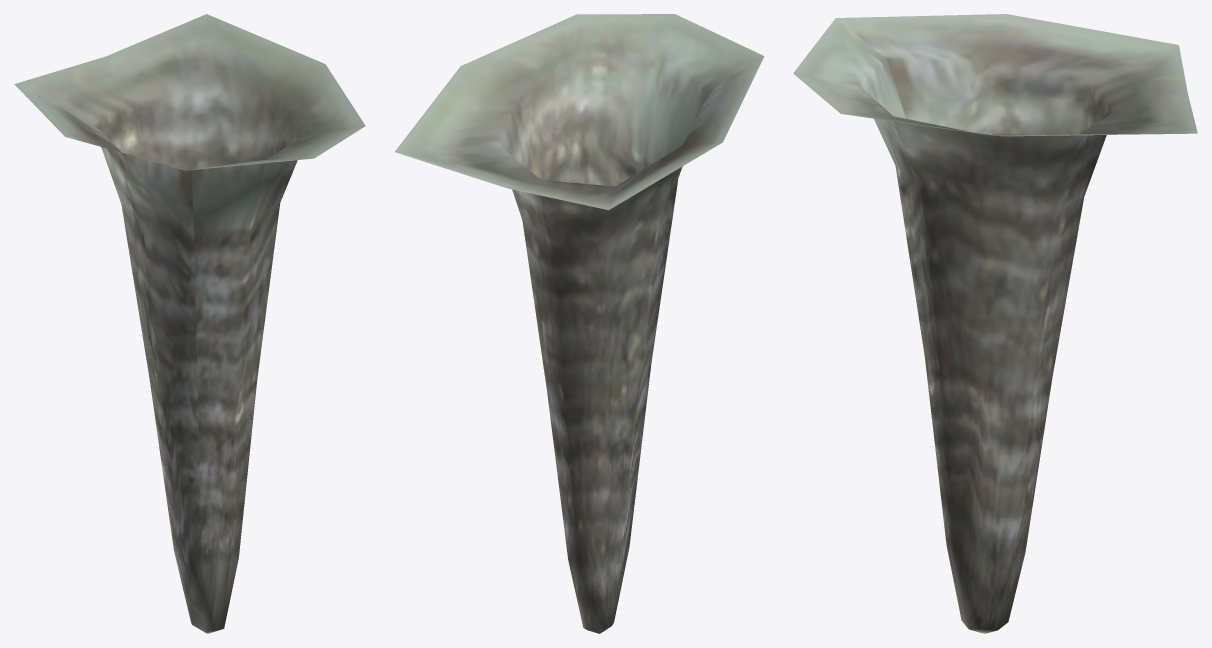
File: TROLLHOLE02_PS-SECRETSTALAG47.fbx
The picture shows the model from 3 angles, left to right: view 1: azimuth 30°, elevation 25°; view 2: azimuth 150°, elevation 25°; view 3: azimuth 270°, elevation 25°; orthographic projection. The views are drawn at different scales.
Visible parts, largest first — view 1: TROLLHOLE02_PS-SECRETSTALAG47; view 2: TROLLHOLE02_PS-SECRETSTALAG47; view 3: TROLLHOLE02_PS-SECRETSTALAG47.
Part boxes in pixels (x1,y1,x2,y2): TROLLHOLE02_PS-SECRETSTALAG47: (14,14,365,633); TROLLHOLE02_PS-SECRETSTALAG47: (395,14,764,633); TROLLHOLE02_PS-SECRETSTALAG47: (793,14,1197,633).
Bounding box in the file's own units: 18381 × 36473 × 23527.
Materials: 1 (1 with a texture image).
